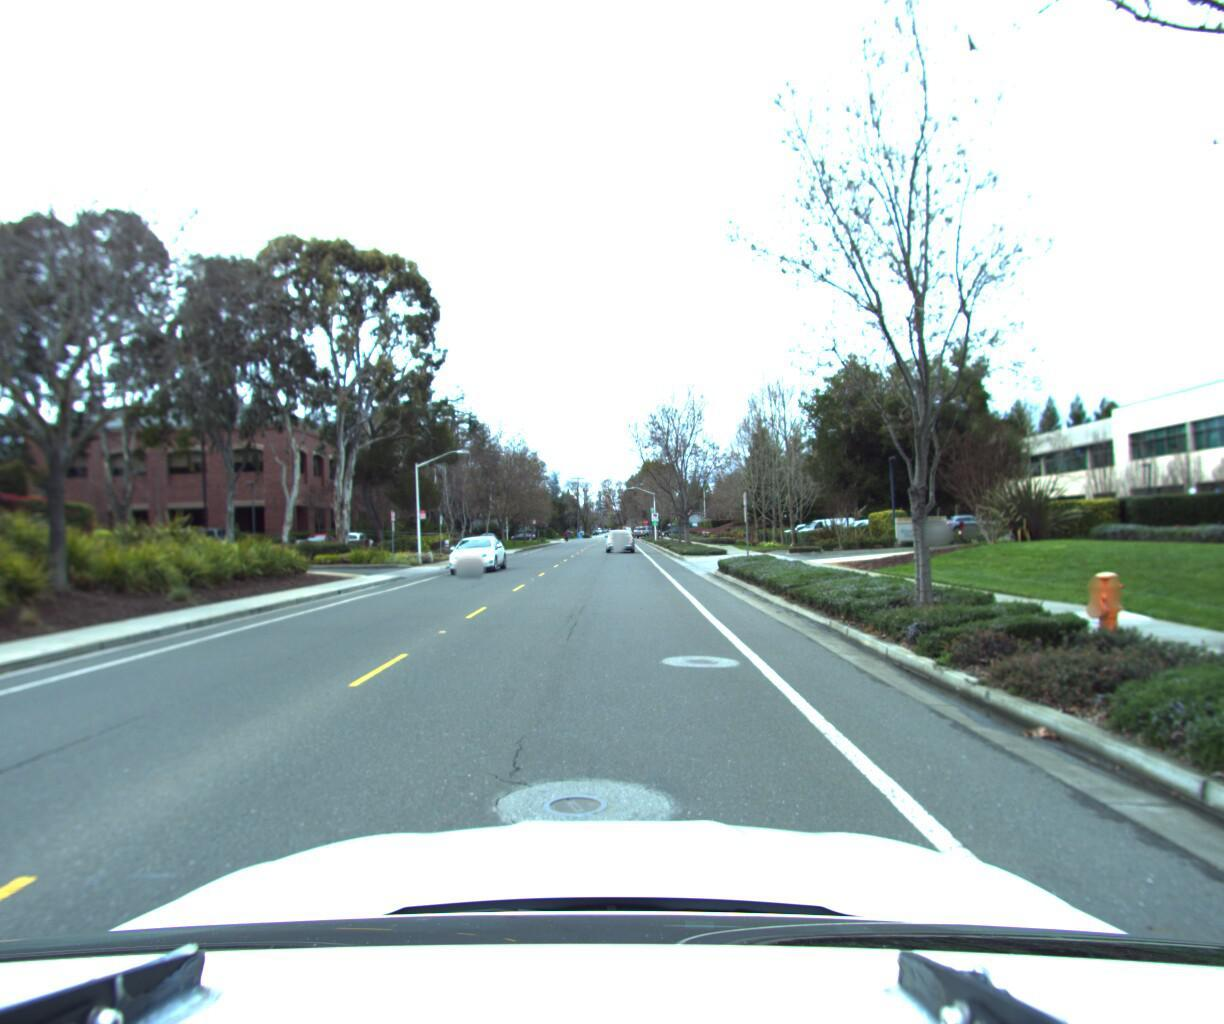car: (443, 532, 507, 573), (602, 520, 634, 548)
